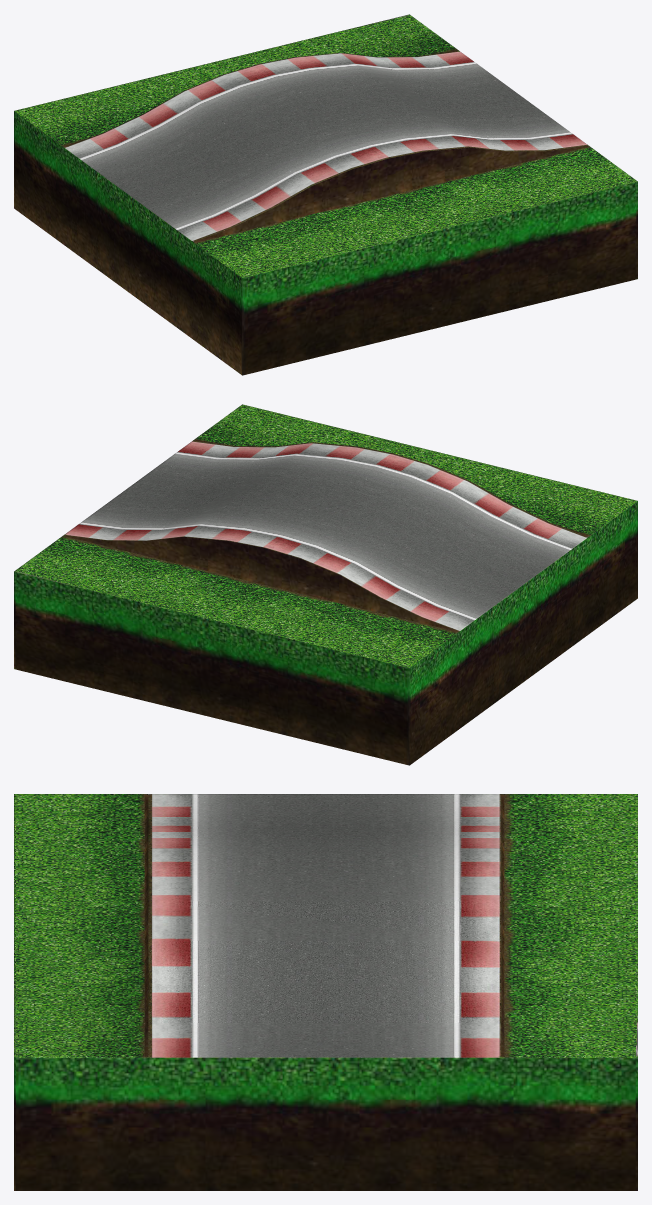
Rendered from road up.fbx.
3 renders of one model, top to bottom at view 1: azimuth 30°, elevation 25°; view 2: azimuth 150°, elevation 25°; view 3: azimuth 270°, elevation 25°, orthographic. The views are drawn at different scales.
Parts seen in each view (by area): view 1: road up; view 2: road up; view 3: road up.
Part boxes in pixels (x1=…): road up: x1=14, y1=14, x2=637, y2=375; road up: x1=14, y1=404, x2=637, y2=765; road up: x1=14, y1=794, x2=637, y2=1190.
Bounding box in the file's own units: 390 × 126 × 390.
